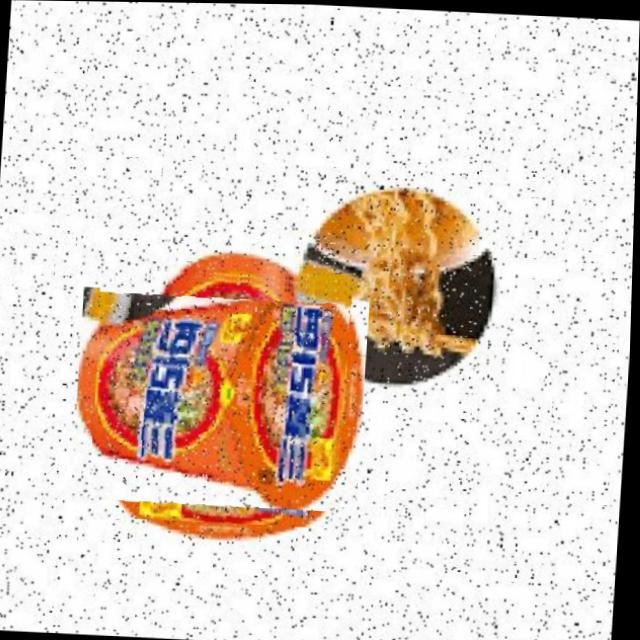Miscellaneous: (90, 264, 355, 528)
